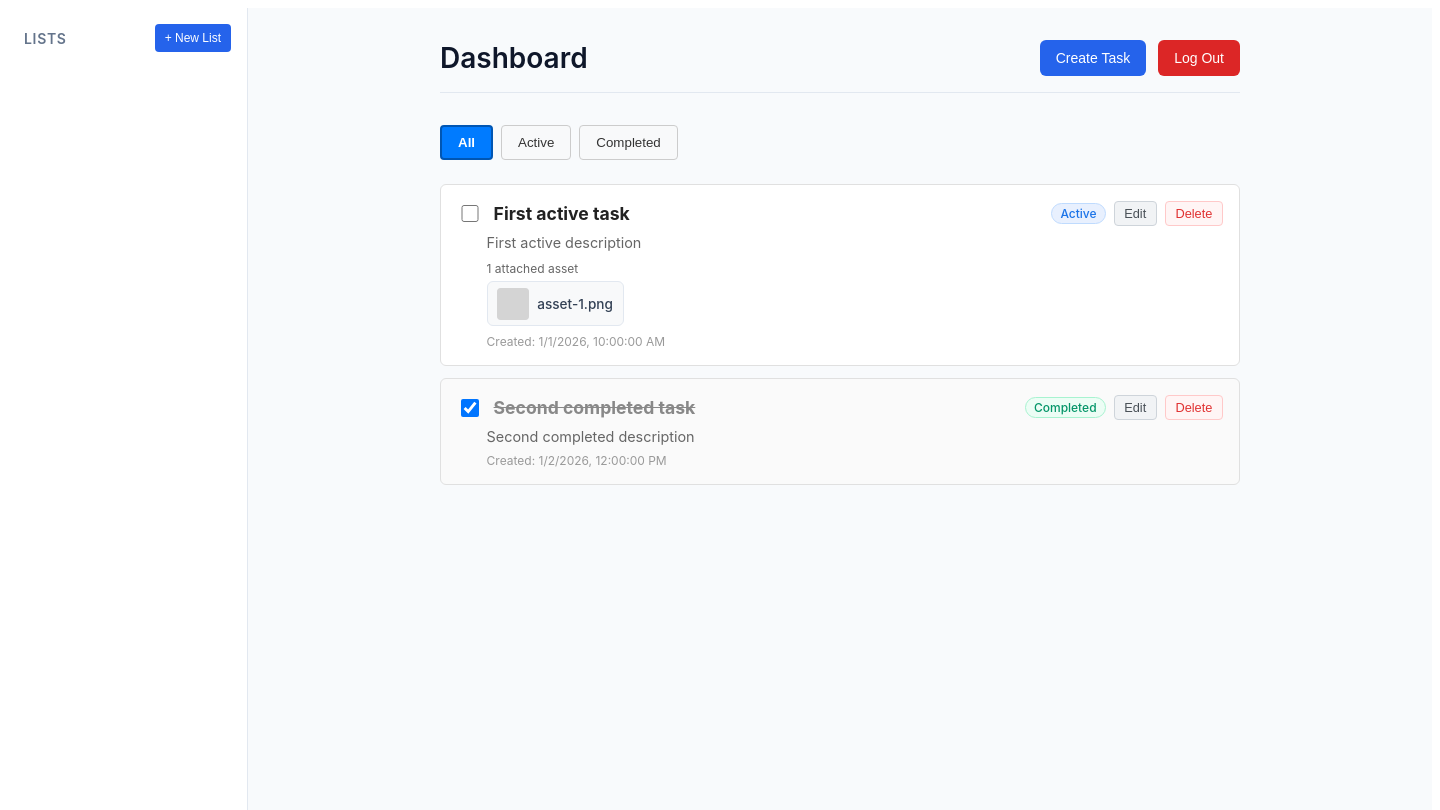
Task Editing and Deletion (T4 / R5 AC-1 to AC-4) › displays DeleteConfirmModal on delete click, confirms deletion via DELETE /todos/{id}, and removes task from dashboard
Expected: the heading "First active task" is shown, top-left (494, 203), bottom-right (630, 224)
Expected: the heading "Second completed task" is shown, top-left (494, 397), bottom-right (695, 418)
Click Delete button on First active task
Click the button "Delete" in the row of "First active task" at [1194, 214], box top-left (1165, 201), bottom-right (1223, 226)
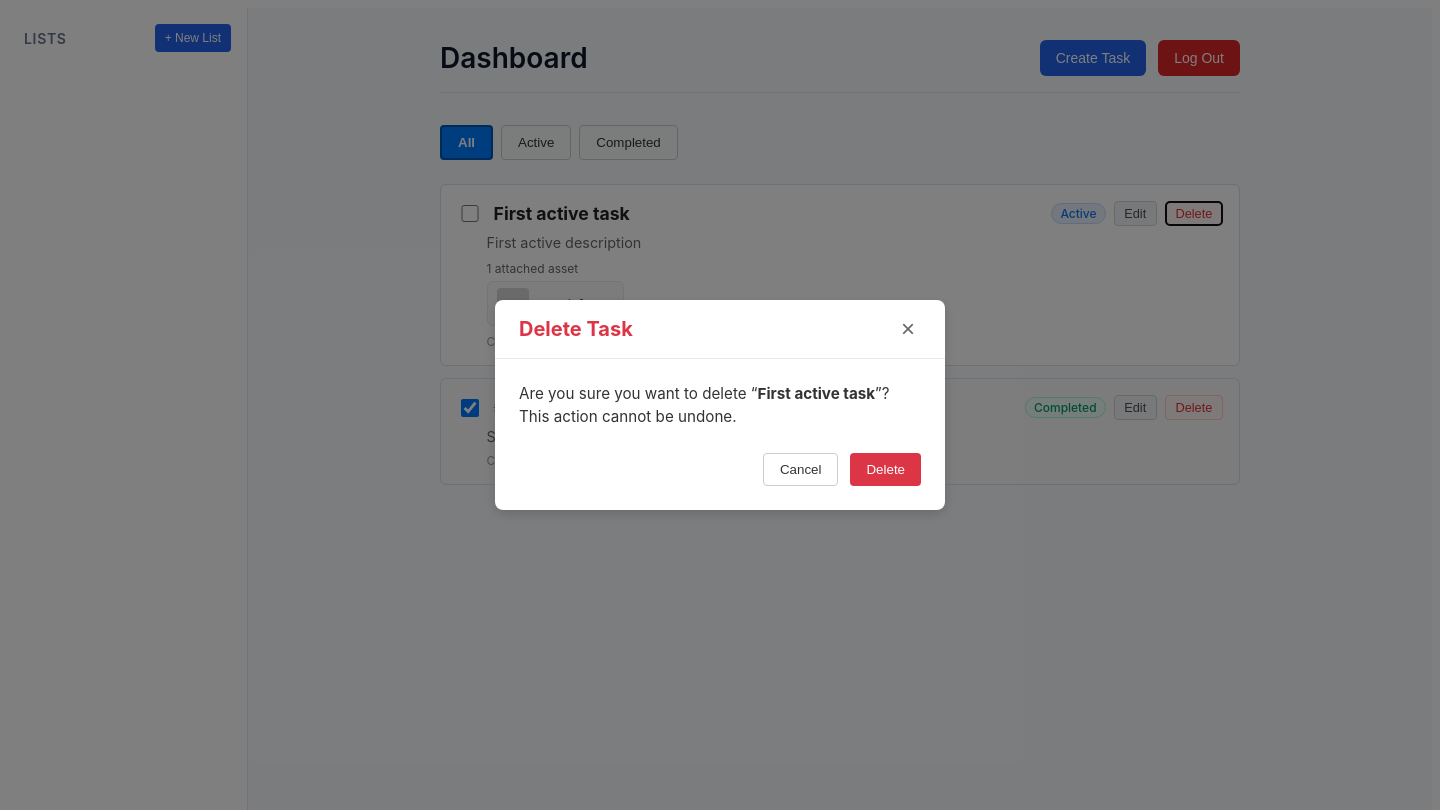
Expected: the heading "Delete Task" is shown, top-left (519, 317), bottom-right (633, 341)
Expected: the text "Are you sure you want to delete" is shown, top-left (519, 384), bottom-right (758, 403)
Confirm deletion
Click the button "Delete" at [886, 469], box top-left (850, 453), bottom-right (921, 486)
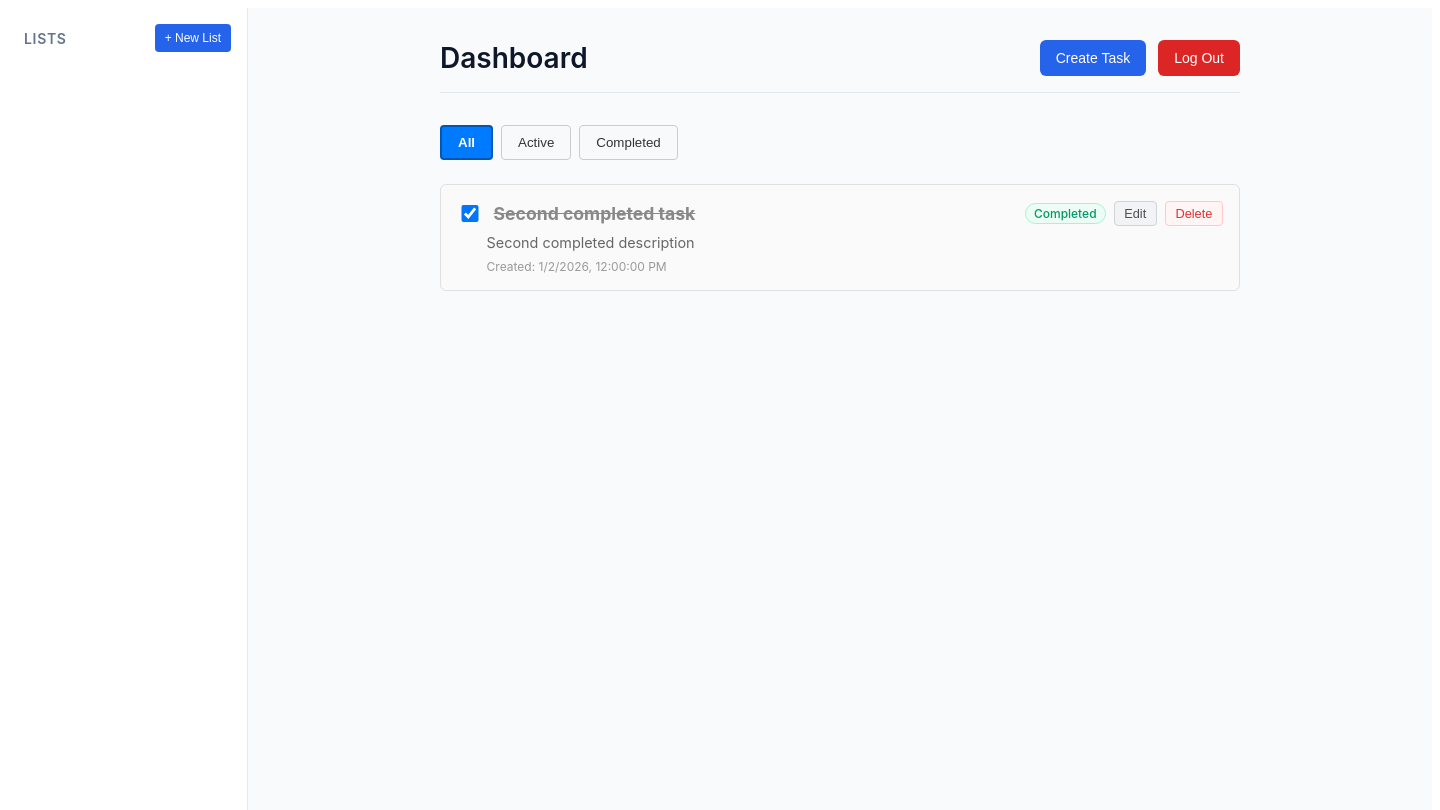
Expected: the heading "Second completed task" is shown, top-left (494, 203), bottom-right (695, 224)
Expected: the heading "Delete Task" is gone
Expected: the heading "First active task" is gone
